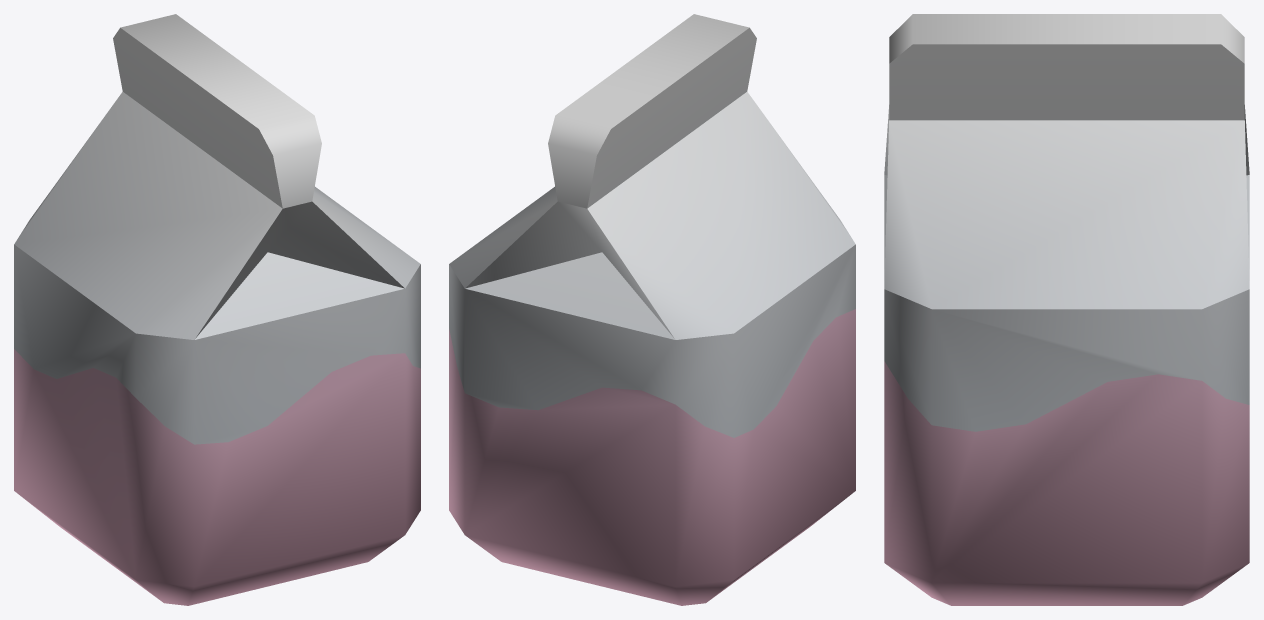
The model's file is food-milk-carton.glb.
3 views of the same model, side by side, from view 1: azimuth 30°, elevation 25°; view 2: azimuth 150°, elevation 25°; view 3: azimuth 270°, elevation 25° (orthographic). The views are drawn at different scales.
Parts seen in each view (by area): view 1: food-milk-carton; view 2: food-milk-carton; view 3: food-milk-carton.
Boxes of the visible parts, x1,y1,x2,y2 form: food-milk-carton: (14,14,420,605); food-milk-carton: (449,14,855,605); food-milk-carton: (884,14,1249,605).
Size of the model in its own units: 0.1539 by 0.2415 by 0.1539.
